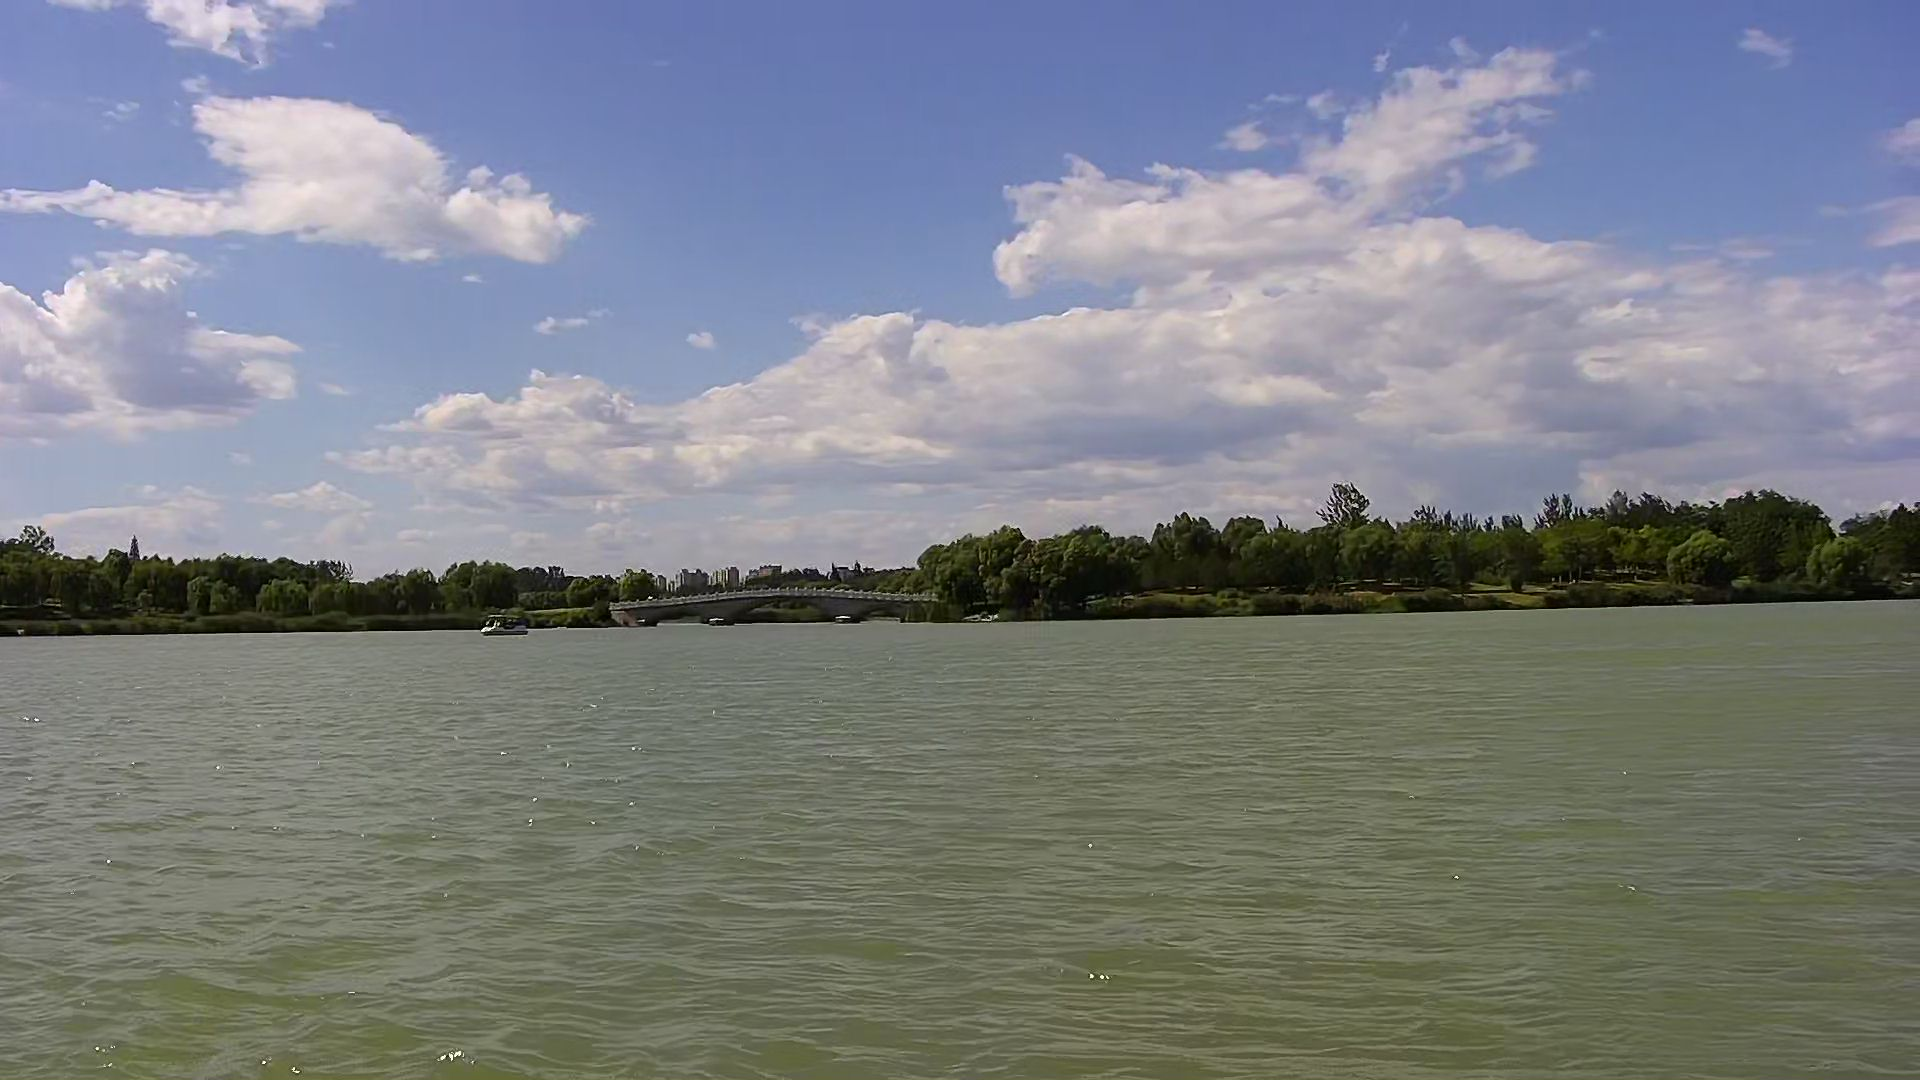boat: (479, 608, 527, 637)
bridge: (607, 585, 945, 628)
